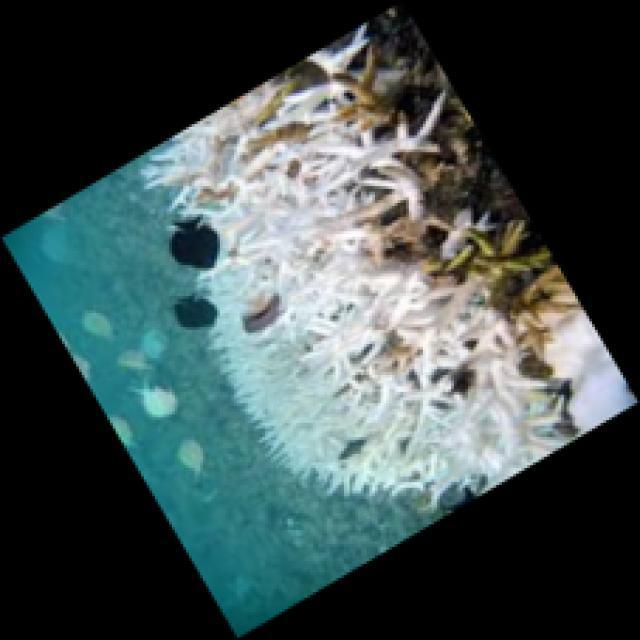Bleached: (151, 65, 576, 517), (552, 311, 640, 445)
Healthy: (322, 45, 417, 138), (435, 230, 555, 292), (513, 266, 577, 362)
